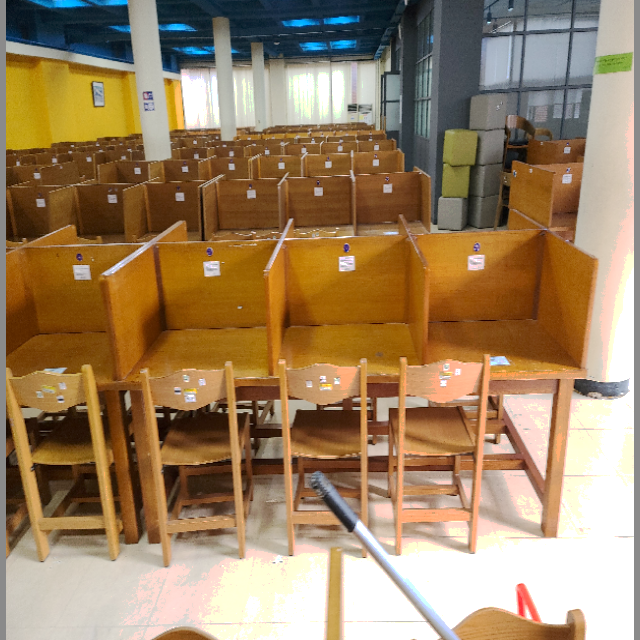empty: (106, 251, 272, 457), (431, 244, 587, 461), (277, 249, 427, 448)
